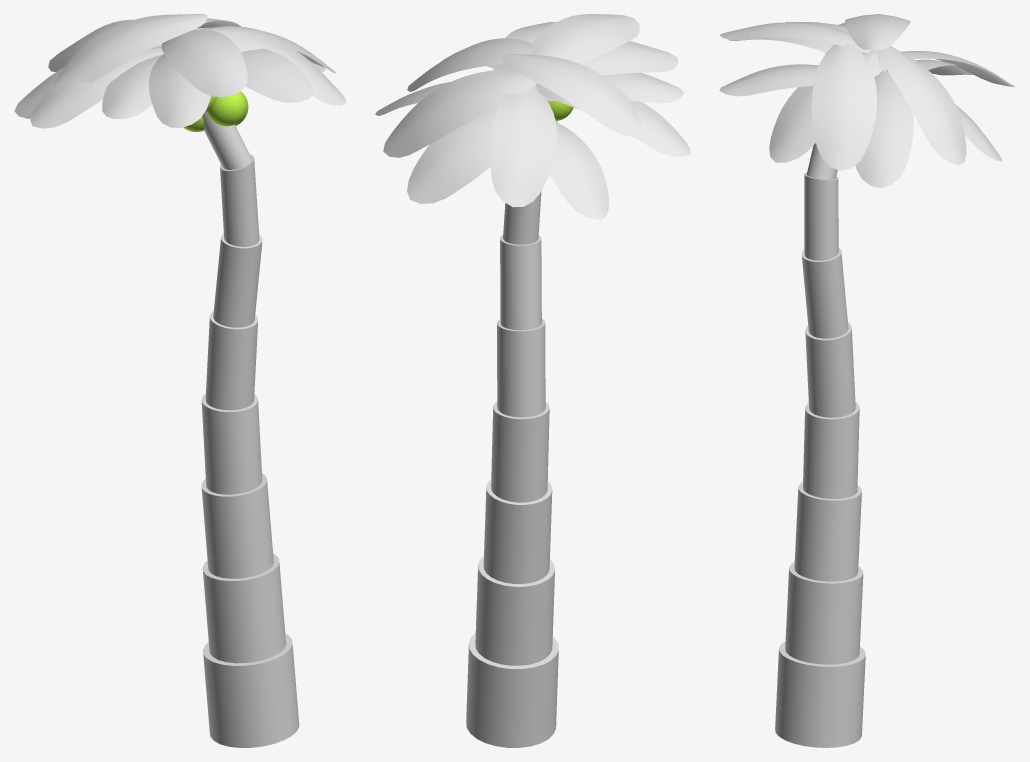
Rendered from Palm.fbx.
3 views of the same model, side by side, from view 1: azimuth 30°, elevation 25°; view 2: azimuth 150°, elevation 25°; view 3: azimuth 270°, elevation 25° (orthographic). The views are drawn at different scales.
Parts seen in each view (by area): view 1: Cylinder, Plane.076, Plane.075, Plane.055, Plane.054, Plane.004, Plane.009, Plane.057, Plane.077, Icosphere.002, Plane.056, Plane.013; view 2: Cylinder, Plane.056, Plane.058, Plane.076, Plane.053, Plane.075, Plane.013, Plane.077, Plane.054, Plane.055, Plane.009, Plane.052 (+1 smaller); view 3: Cylinder, Plane.077, Plane.058, Plane.052, Plane.057, Plane.004, Plane.075, Plane.076, Plane.056, Plane.053, Plane.013, Plane.054.
Part boxes in pixels (<box>): Cylinder: <box>201,112,299,747</box>; Plane.076: <box>54,14,207,89</box>; Plane.075: <box>161,30,247,97</box>; Plane.055: <box>30,47,163,128</box>; Plane.054: <box>149,54,210,127</box>; Plane.004: <box>241,48,313,102</box>; Plane.009: <box>102,54,163,118</box>; Plane.057: <box>193,27,346,105</box>; Plane.077: <box>198,26,335,73</box>; Icosphere.002: <box>207,91,247,126</box>; Plane.056: <box>48,19,162,71</box>; Plane.013: <box>14,67,64,118</box>; Cylinder: <box>466,191,558,747</box>; Plane.056: <box>490,85,557,207</box>; Plane.058: <box>383,70,536,157</box>; Plane.076: <box>501,53,645,136</box>; Plane.053: <box>407,108,497,203</box>; Plane.075: <box>529,14,639,83</box>; Plane.013: <box>546,122,608,219</box>; Plane.077: <box>407,38,533,91</box>; Plane.054: <box>582,41,678,75</box>; Plane.055: <box>536,84,690,156</box>; Plane.009: <box>535,72,684,103</box>; Plane.052: <box>375,82,449,115</box>; Cylinder: <box>775,143,865,747</box>; Plane.077: <box>811,43,876,170</box>; Plane.058: <box>875,46,966,165</box>; Plane.052: <box>855,71,913,188</box>; Plane.057: <box>769,50,878,162</box>; Plane.004: <box>719,64,818,96</box>; Plane.075: <box>719,22,874,53</box>; Plane.076: <box>845,14,910,50</box>; Plane.056: <box>878,51,1014,87</box>; Plane.053: <box>887,71,1002,161</box>; Plane.013: <box>886,59,973,75</box>; Plane.054: <box>729,37,862,52</box>.
Size of the model in its own units: 56.44 by 126 by 49.68.
